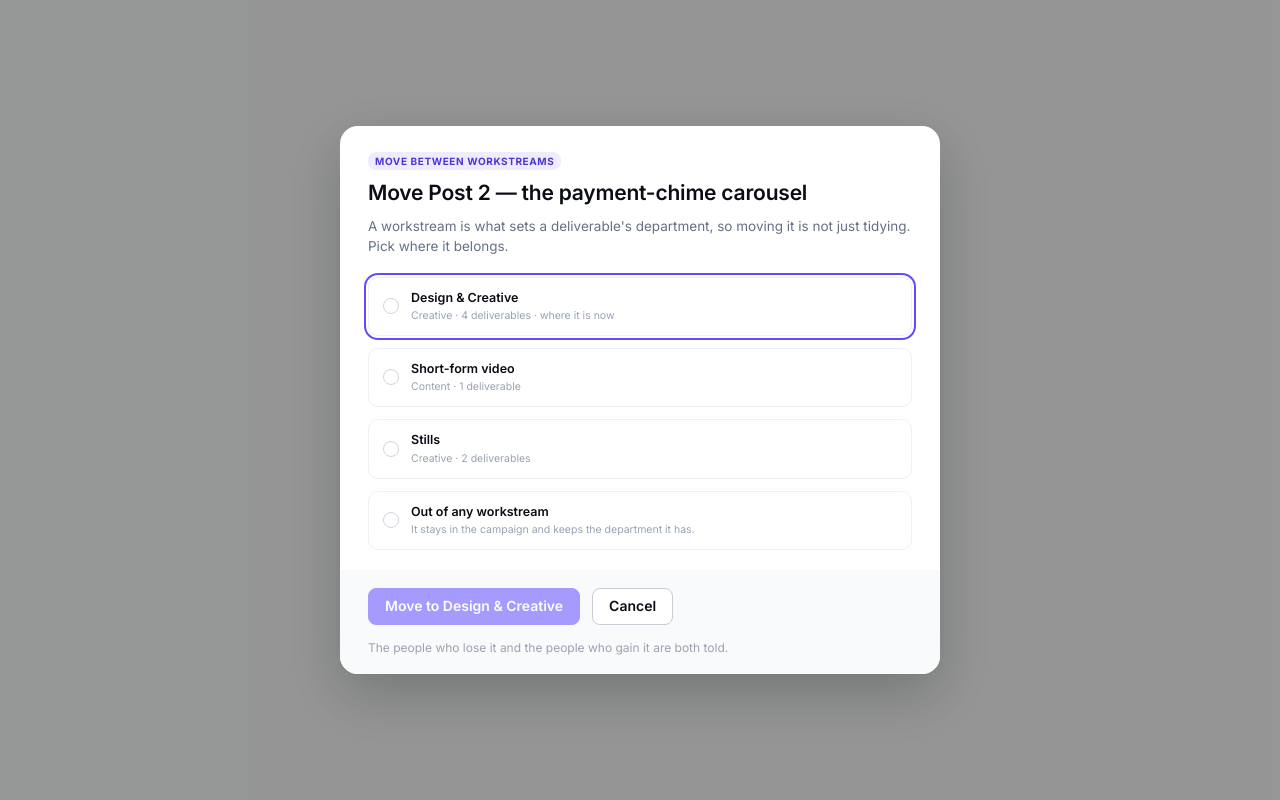
Test: MoveToWorkstreamDialog › taking it out says the department is kept, which is the opposite of the move (d.4)
Click the radio button with test id "move-workstream-option-none" at (640, 520), box top-left (368, 491), bottom-right (912, 550)
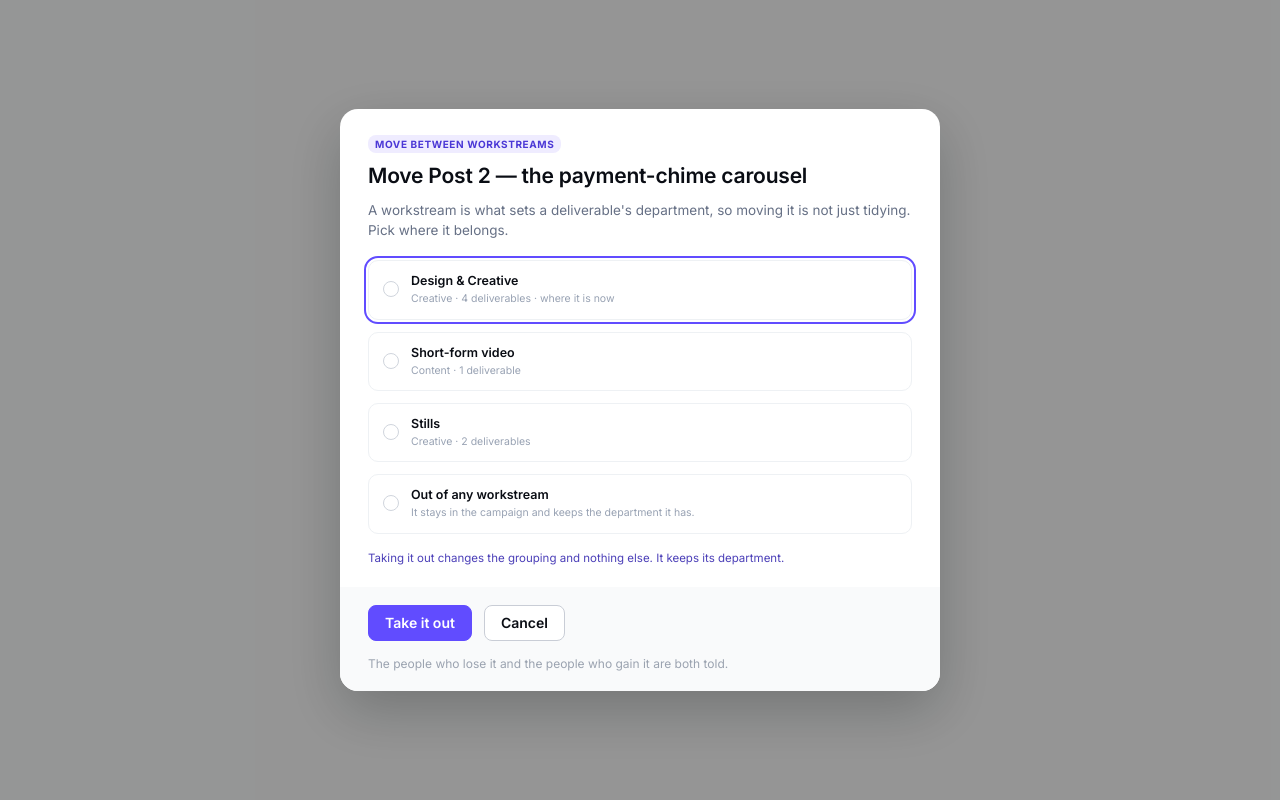
Check: the text with test id "move-workstream-out-note" shows "keeps its department", box top-left (368, 550), bottom-right (784, 564)
